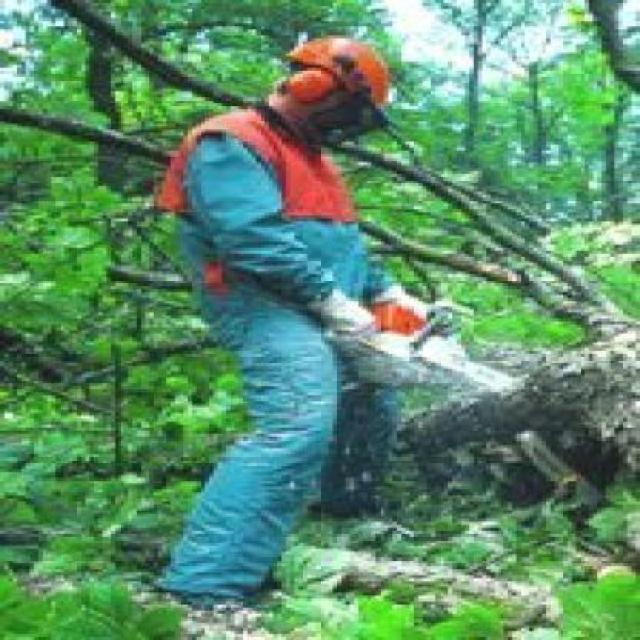Chainsaw: (356, 283, 518, 389)
